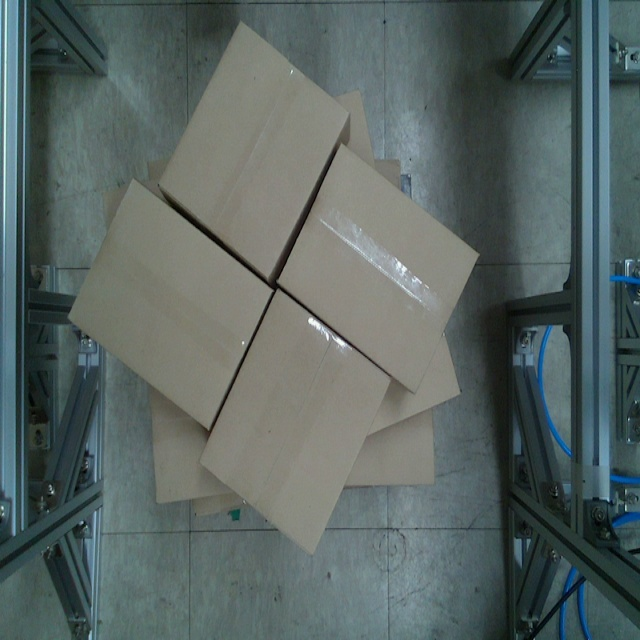box: (67, 173, 276, 439), (194, 284, 394, 561), (276, 139, 483, 400), (156, 19, 351, 285)
